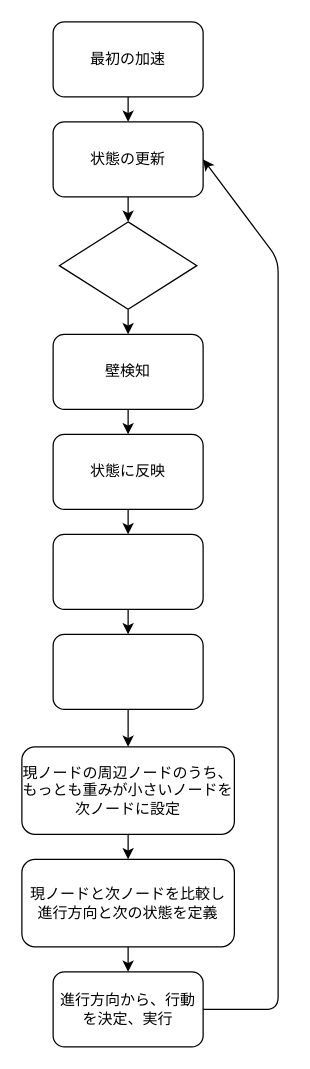
This 310x1069 diagram has some shape labels left out. Each missing label, with the centre of its shape:
"is Goal ??" belongs at (127,265).
"未知ノードに 壁の存在を書き込む" belongs at (127,571).
"重みマップを更新" belongs at (127,671).
